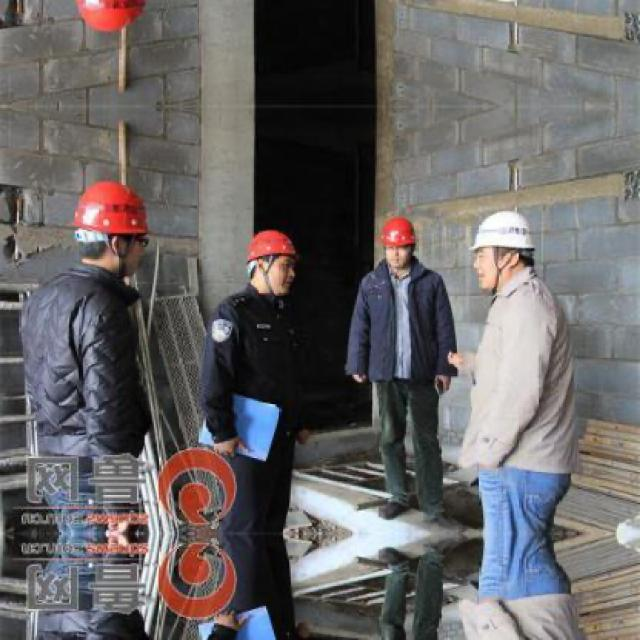con casco: (432, 222, 562, 288), (58, 176, 162, 257), (212, 213, 312, 287), (356, 211, 442, 256)
